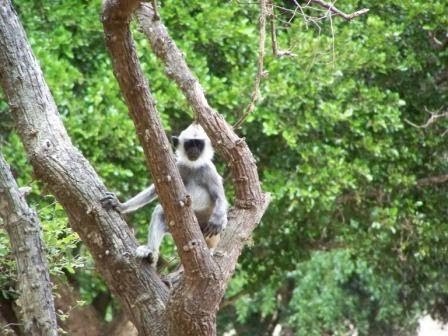monkey: (103, 107, 239, 269)
